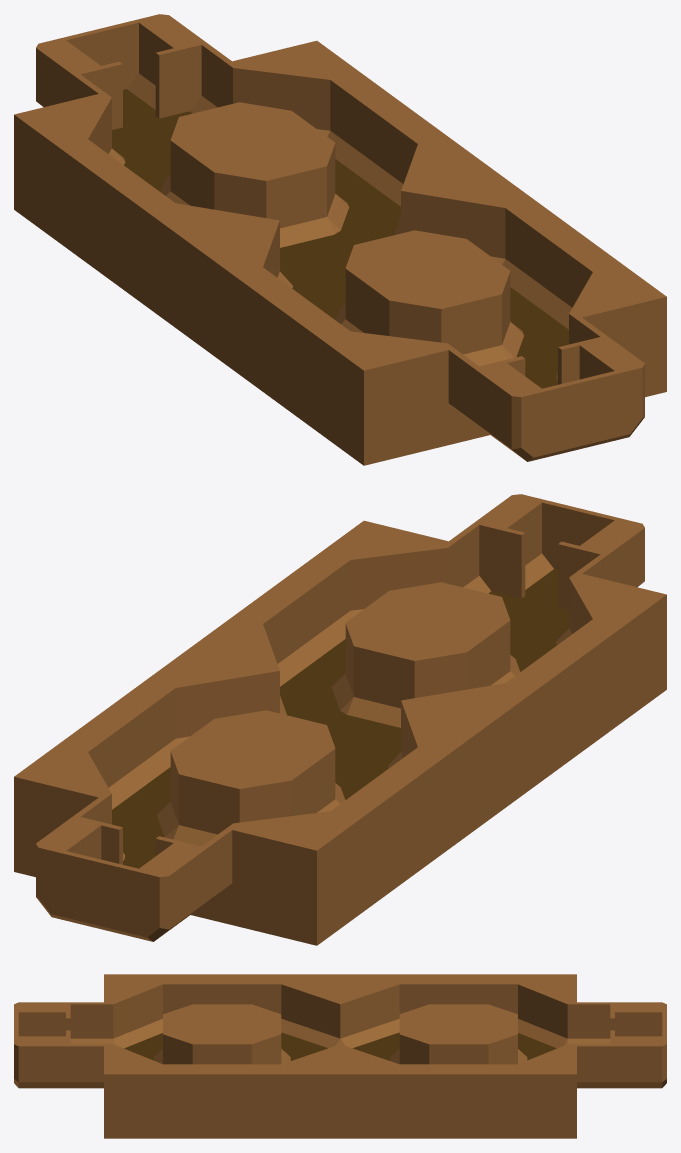
Rendered from Arena Test V3.fbx.
3 renders of one model, top to bottom at view 1: azimuth 30°, elevation 25°; view 2: azimuth 150°, elevation 25°; view 3: azimuth 270°, elevation 25°, orthographic. The views are drawn at different scales.
Parts seen in each view (by area): view 1: Model; view 2: Model; view 3: Model.
Boxes of the visible parts, x1,y1,x2,y2 form: Model: (14, 14, 666, 465); Model: (14, 494, 666, 945); Model: (14, 974, 666, 1138).
Size of the model in its own units: 50 by 15 by 138.
